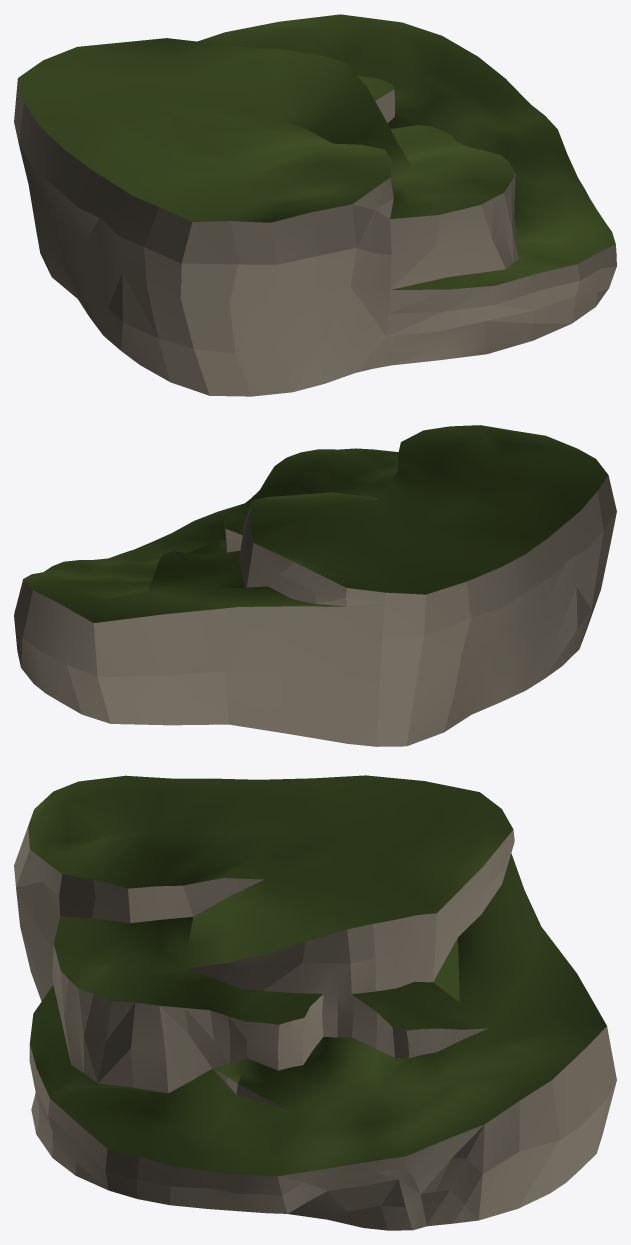
The model's file is mound.obj.
3 renders of one model, top to bottom at view 1: azimuth 30°, elevation 25°; view 2: azimuth 150°, elevation 25°; view 3: azimuth 270°, elevation 25°, orthographic. The views are drawn at different scales.
Visible parts, largest first — view 1: obj1; view 2: obj1; view 3: obj1.
Part boxes in pixels (<box>): obj1: <box>14,14,616,396</box>; obj1: <box>14,425,616,746</box>; obj1: <box>14,775,616,1230</box>.
Size of the model in its own units: 33.34 by 11.85 by 31.29.
